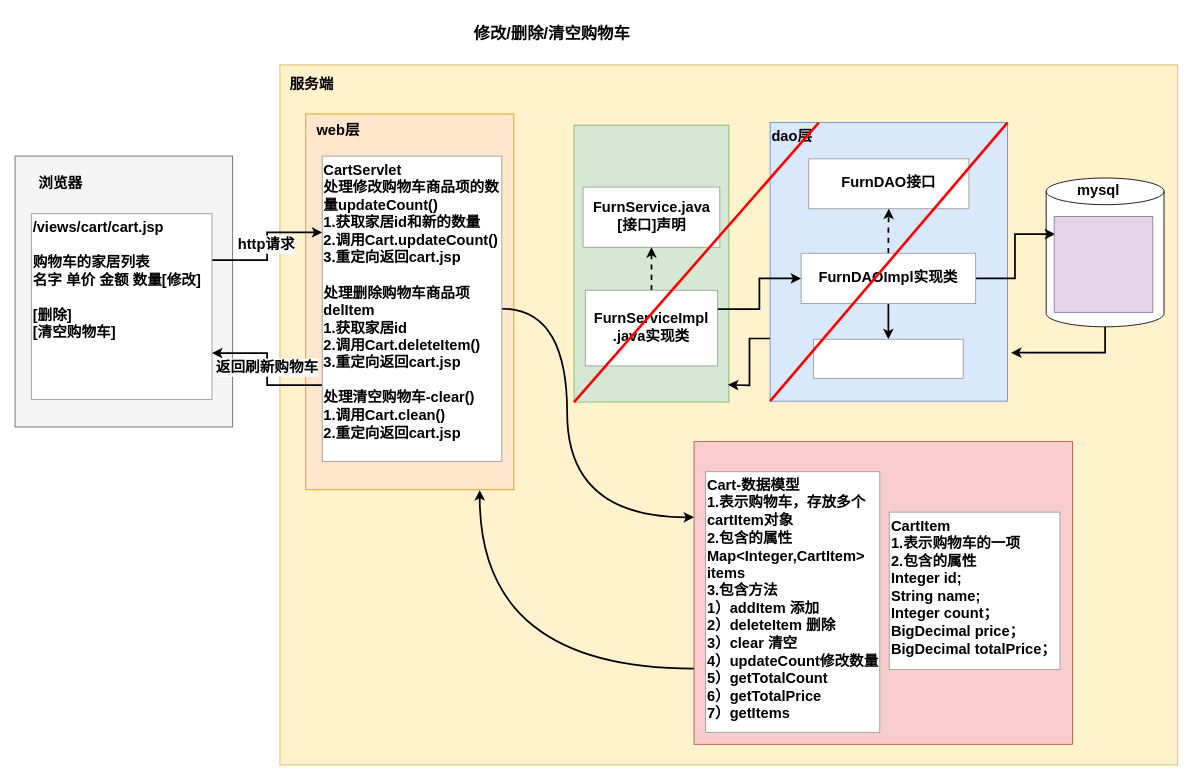
The diagram is 1193 pixels wide and 780 high, and some of its shapes have lost their labels. The shapes that lost their labels are listed below. From the top down, each one's box as (x1, y1, x2, y2) in pixels, then its label:
(573, 124, 729, 402): Service层
(1053, 216, 1153, 312): furn表[家居表] 字段 id name marker...
(813, 338, 963, 378): BasicDAO[基础DAO]
(693, 441, 1072, 744): entity包-提供Javabean
